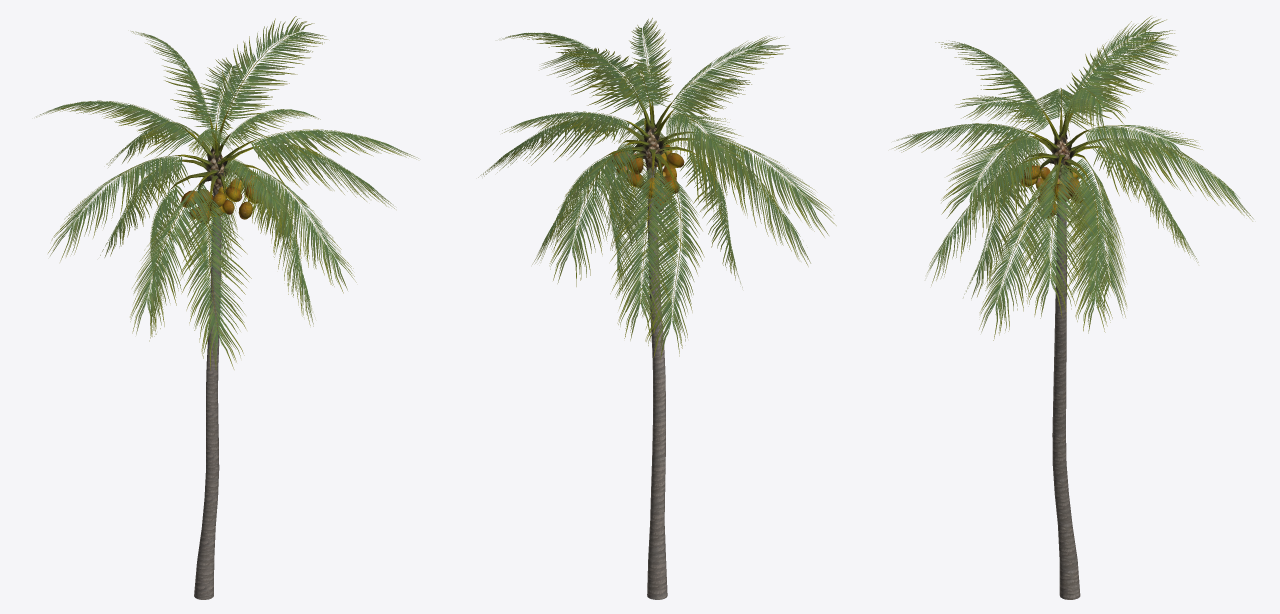
The model's file is SM_TreeF.fbx.
The picture shows the model from 3 angles, left to right: view 1: azimuth 30°, elevation 25°; view 2: azimuth 150°, elevation 25°; view 3: azimuth 270°, elevation 25°; orthographic projection. The views are drawn at different scales.
Parts seen in each view (by area): view 1: polySurface57; view 2: polySurface57; view 3: polySurface57.
Part boxes in pixels (x1,y1,x2,y2): polySurface57: (36,16,418,599); polySurface57: (478,18,836,599); polySurface57: (892,16,1253,599).
Size of the model in its own units: 709 by 1027 by 641.
